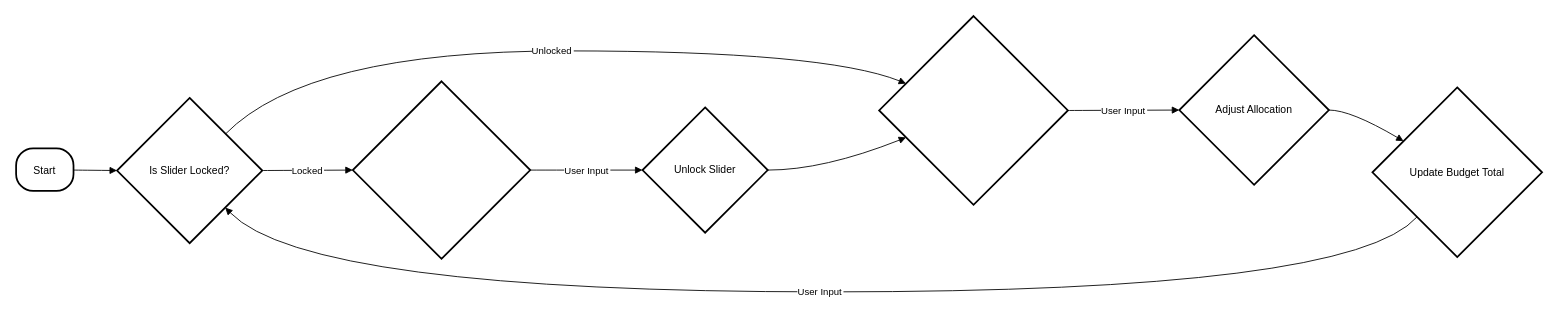
This 1557x312 diagram has some shape labels left out. Here are the shapes that lost their labels. From the top down, the centre of each, then its label:
At pixel 973 110: "Show Unlocked Options".
At pixel 441 169: "Show Locked Message".
